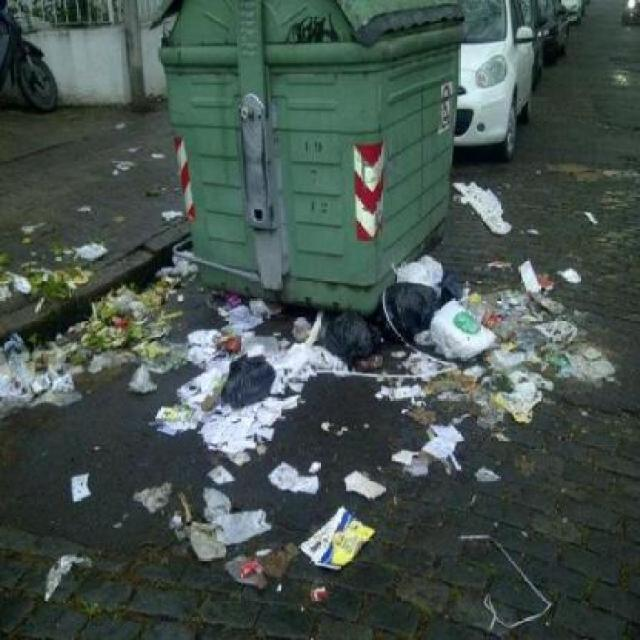garbage: (166, 291, 313, 455), (5, 286, 190, 407), (377, 254, 520, 410)
